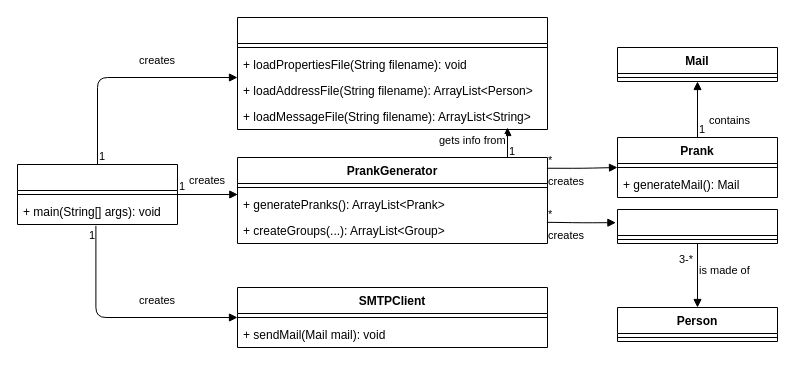
Image size: 795x368. Some labels were removed from this diagram. Each missing label, with the box of its shape:
ConfigurationManager: (236, 16, 548, 130)
Group: (616, 208, 778, 244)
SMTP: (16, 164, 178, 224)
